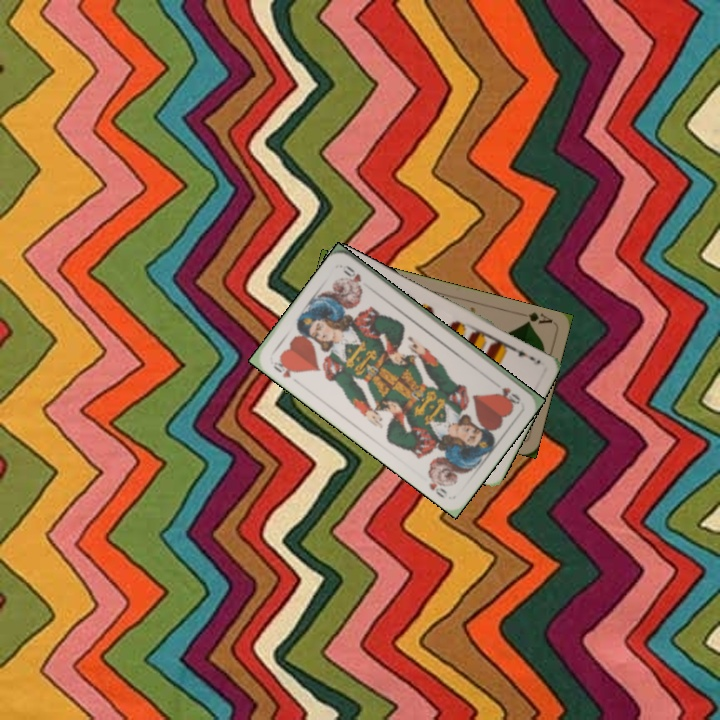E7: (506, 342, 538, 363)
GA: (521, 308, 555, 327)
HO: (269, 355, 300, 381), (498, 383, 523, 407)
